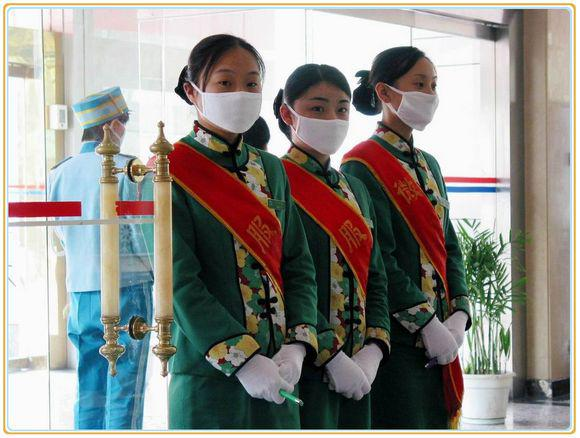OK: (202, 66, 265, 129), (292, 96, 354, 155), (384, 74, 441, 130)
